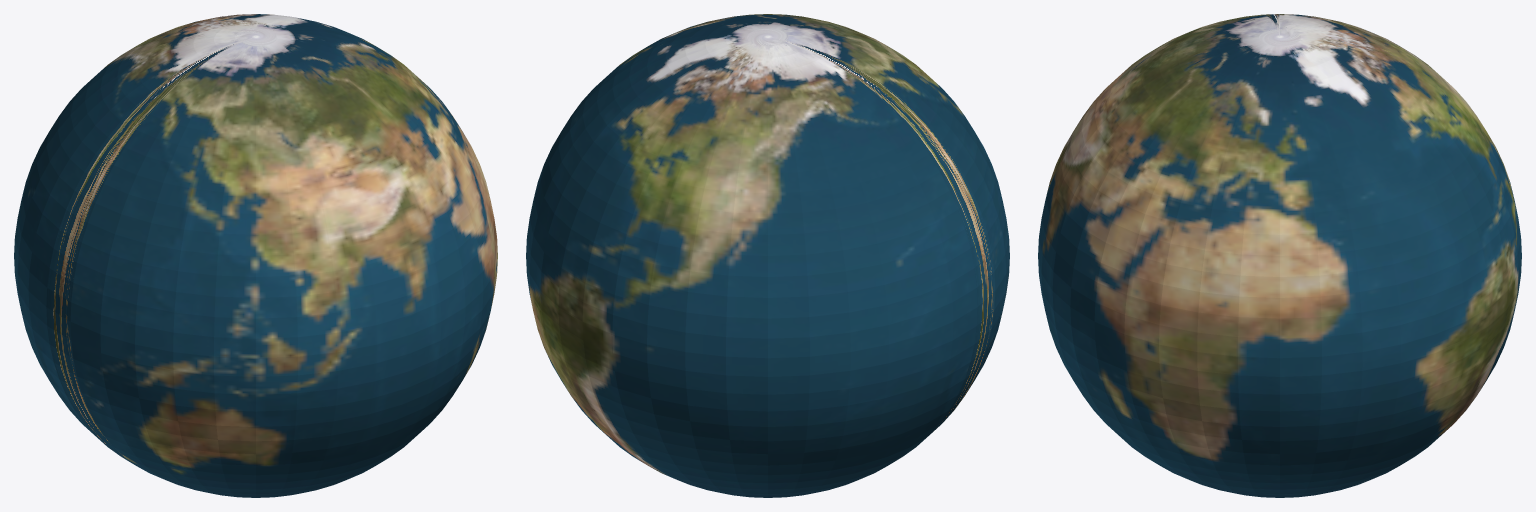
Rendered from globe_fixed.obj.
3 renders of one model, left to right at view 1: azimuth 30°, elevation 25°; view 2: azimuth 150°, elevation 25°; view 3: azimuth 270°, elevation 25°, orthographic.
Visible parts, largest first — view 1: Sphere; view 2: Sphere; view 3: Sphere.
Boxes of the visible parts, left/top/right/bottom form: Sphere: left=14, top=14, right=497, bottom=497; Sphere: left=526, top=14, right=1009, bottom=497; Sphere: left=1038, top=14, right=1521, bottom=497.
Bounding box in the file's own units: 2 × 2 × 2.
1 material, 1 textured.
